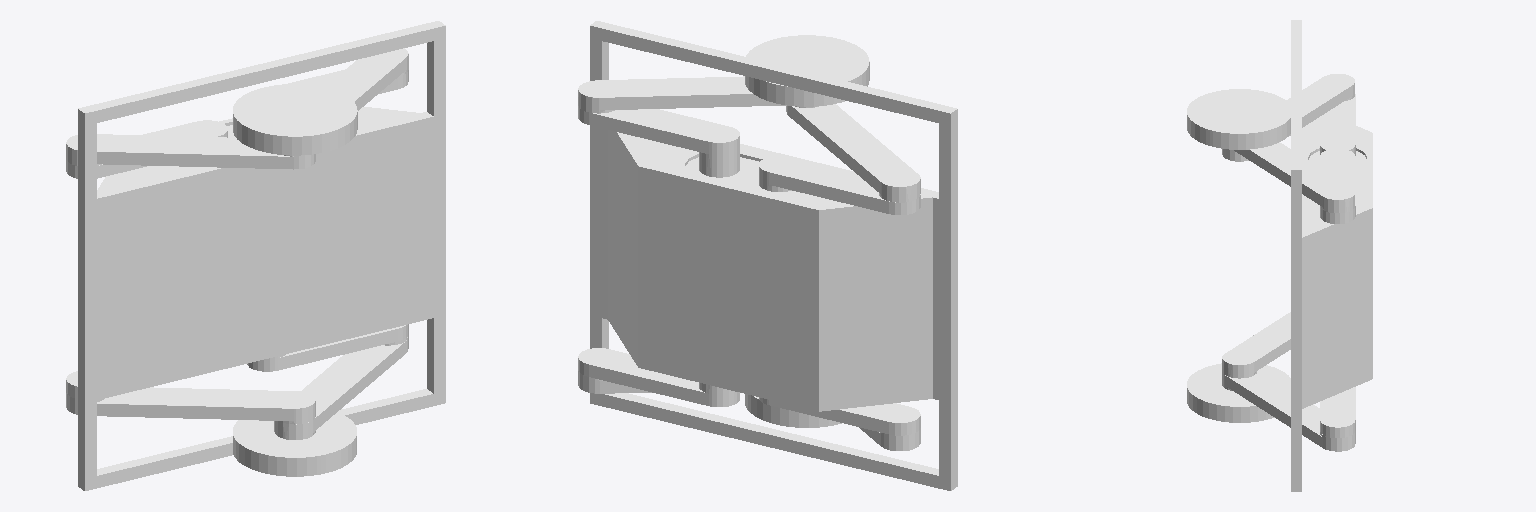
robot.urdf — TOE_balence:
<?xml version="1.0" encoding="utf-8"?>
<!-- This URDF was automatically created by SolidWorks to URDF Exporter! Originally created by [author] ([email redacted]) 
     Commit Version: 1.6.0-4-g7f85cfe  Build Version: 1.6.7995.38578
     For more information, please see http://wiki.ros.org/sw_urdf_exporter -->
<robot
  name="TOE_balence">
  <link
    name="base_link">
    <inertial>
      <origin
        xyz="3.46944695195361E-17 0.0600600740935481 2.22044604925031E-16"
        rpy="0 0 0" />
      <mass
        value="20.4614601836601" />
      <inertia
        ixx="0.249216414234592"
        ixy="-1.60131885338263E-17"
        ixz="2.12952553269204E-17"
        iyy="0.6175648877969"
        iyz="-4.26598358468633E-17"
        izz="0.435038252585552" />
    </inertial>
    <visual>
      <origin
        xyz="0 0 0"
        rpy="0 0 0" />
      <geometry>
        <mesh
          filename="package://TOE_balence/meshes/base_link.STL" />
      </geometry>
      <material
        name="">
        <color
          rgba="1 1 1 1" />
      </material>
    </visual>
    <collision>
      <origin
        xyz="0 0 0"
        rpy="0 0 0" />
      <geometry>
        <mesh
          filename="package://TOE_balence/meshes/base_link.STL" />
      </geometry>
    </collision>
  </link>
  <link
    name="LB_1">
    <inertial>
      <origin
        xyz="-0.0912954643793855 -4.30211422042248E-16 0.0113056803430923"
        rpy="0 0 0" />
      <mass
        value="0.324823001646924" />
      <inertia
        ixx="0.000107013716905788"
        ixy="1.28950027117944E-19"
        ixz="-3.87197766270466E-05"
        iyy="0.00180263223873226"
        iyz="4.37275444553061E-20"
        izz="0.00187778887256759" />
    </inertial>
    <visual>
      <origin
        xyz="0 0 0"
        rpy="0 0 0" />
      <geometry>
        <mesh
          filename="package://TOE_balence/meshes/LB_1.STL" />
      </geometry>
      <material
        name="">
        <color
          rgba="1 1 1 1" />
      </material>
    </visual>
    <collision>
      <origin
        xyz="0 0 0"
        rpy="0 0 0" />
      <geometry>
        <mesh
          filename="package://TOE_balence/meshes/LB_1.STL" />
      </geometry>
    </collision>
  </link>
  <joint
    name="LB_1"
    type="revolute">
    <origin
      xyz="-0.05 0.08 -0.185"
      rpy="0 0 0" />
    <parent
      link="base_link" />
    <child
      link="LB_1" />
    <axis
      xyz="0 0 -1" />
    <limit
      lower="0"
      upper="1.0466"
      effort="0"
      velocity="0" />
  </joint>
  <link
    name="LB_2">
    <inertial>
      <origin
        xyz="0.15 -1.38777878078145E-17 0.01"
        rpy="0 0 0" />
      <mass
        value="0.444823001646924" />
      <inertia
        ixx="0.000145446900494077"
        ixy="-5.73338937578026E-20"
        ixz="5.30143760293281E-05"
        iyy="0.00486196443754987"
        iyz="-7.73733477640343E-20"
        izz="0.00497068788779691" />
    </inertial>
    <visual>
      <origin
        xyz="0 0 0"
        rpy="0 0 0" />
      <geometry>
        <mesh
          filename="package://TOE_balence/meshes/LB_2.STL" />
      </geometry>
      <material
        name="">
        <color
          rgba="1 1 1 1" />
      </material>
    </visual>
    <collision>
      <origin
        xyz="0 0 0"
        rpy="0 0 0" />
      <geometry>
        <mesh
          filename="package://TOE_balence/meshes/LB_2.STL" />
      </geometry>
    </collision>
  </link>
  <joint
    name="LB_2"
    type="revolute">
    <origin
      xyz="-0.200000000000001 0 -0.0250000000000002"
      rpy="0 0 -0.585685543457151" />
    <parent
      link="LB_1" />
    <child
      link="LB_2" />
    <axis
      xyz="0 0 -1" />
    <limit
      lower="0"
      upper="0"
      effort="0"
      velocity="0" />
  </joint>
  <link
    name="LF_1">
    <inertial>
      <origin
        xyz="0.0749790246153097 5.96744875736022E-16 0.0168807682307895"
        rpy="0 0 0" />
      <mass
        value="0.395508836352695" />
      <inertia
        ixx="0.000183089900579248"
        ixy="1.22584331602294E-19"
        ixz="0.000204048265203773"
        iyy="0.0023625702698755"
        iyz="-1.52298451305155E-20"
        izz="0.00239345934565496" />
    </inertial>
    <visual>
      <origin
        xyz="0 0 0"
        rpy="0 0 0" />
      <geometry>
        <mesh
          filename="package://TOE_balence/meshes/LF_1.STL" />
      </geometry>
      <material
        name="">
        <color
          rgba="1 1 1 1" />
      </material>
    </visual>
    <collision>
      <origin
        xyz="0 0 0"
        rpy="0 0 0" />
      <geometry>
        <mesh
          filename="package://TOE_balence/meshes/LF_1.STL" />
      </geometry>
    </collision>
  </link>
  <joint
    name="LF_1"
    type="revolute">
    <origin
      xyz="0.05 0.08 -0.21"
      rpy="0 0 0" />
    <parent
      link="base_link" />
    <child
      link="LF_1" />
    <axis
      xyz="0 0 -1" />
    <limit
      lower="0"
      upper="-1.0466"
      effort="0"
      velocity="0" />
  </joint>
  <link
    name="LF_2">
    <inertial>
      <origin
        xyz="-0.15 -1.38777878078145E-17 0.00999999999999995"
        rpy="0 0 0" />
      <mass
        value="0.444823001646924" />
      <inertia
        ixx="0.000145446900494078"
        ixy="-1.41843389906989E-19"
        ixz="-5.30143760293279E-05"
        iyy="0.00486196443754988"
        iyz="-9.51376352720901E-20"
        izz="0.00497068788779692" />
    </inertial>
    <visual>
      <origin
        xyz="0 0 0"
        rpy="0 0 0" />
      <geometry>
        <mesh
          filename="package://TOE_balence/meshes/LF_2.STL" />
      </geometry>
      <material
        name="">
        <color
          rgba="1 1 1 1" />
      </material>
    </visual>
    <collision>
      <origin
        xyz="0 0 0"
        rpy="0 0 0" />
      <geometry>
        <mesh
          filename="package://TOE_balence/meshes/LF_2.STL" />
      </geometry>
    </collision>
  </link>
  <joint
    name="LF_2"
    type="revolute">
    <origin
      xyz="0.199999999999999 0 -0.0250000000000001"
      rpy="0 0 0.58568554345715" />
    <parent
      link="LF_1" />
    <child
      link="LF_2" />
    <axis
      xyz="0 0 -1" />
    <limit
      lower="0"
      upper="0"
      effort="0"
      velocity="0" />
  </joint>
  <link
    name="L">
    <inertial>
      <origin
        xyz="0 0 0.015"
        rpy="0 0 0" />
      <mass
        value="0.763407014822321" />
      <inertia
        ixx="0.00160315473112687"
        ixy="-1.43995601033231E-20"
        ixz="-7.10198537447759E-25"
        iyy="0.00160315473112687"
        iyz="2.95431016670969E-24"
        izz="0.0030917984100304" />
    </inertial>
    <visual>
      <origin
        xyz="0 0 0"
        rpy="0 0 0" />
      <geometry>
        <mesh
          filename="package://TOE_balence/meshes/L.STL" />
      </geometry>
      <material
        name="">
        <color
          rgba="1 1 1 1" />
      </material>
    </visual>
    <collision>
      <origin
        xyz="0 0 0"
        rpy="0 0 0" />
      <geometry>
        <mesh
          filename="package://TOE_balence/meshes/L.STL" />
      </geometry>
    </collision>
  </link>
  <joint
    name="L"
    type="revolute">
    <origin
      xyz="-0.3 0 -0.0350000000000001"
      rpy="0 0 -0.58568554345715" />
    <parent
      link="LF_2" />
    <child
      link="L" />
    <axis
      xyz="0 0 1" />
    <limit
      lower="0"
      upper="0"
      effort="0"
      velocity="0" />
  </joint>
  <link
    name="RF_1">
    <inertial>
      <origin
        xyz="0.0749790246153108 -5.55111512312578E-17 -0.0168807682307895"
        rpy="0 0 0" />
      <mass
        value="0.395508836352695" />
      <inertia
        ixx="0.000183089900579248"
        ixy="1.76472263066726E-19"
        ixz="-0.000204048265203774"
        iyy="0.0023625702698755"
        iyz="9.34217943423371E-21"
        izz="0.00239345934565496" />
    </inertial>
    <visual>
      <origin
        xyz="0 0 0"
        rpy="0 0 0" />
      <geometry>
        <mesh
          filename="package://TOE_balence/meshes/RF_1.STL" />
      </geometry>
      <material
        name="">
        <color
          rgba="1 1 1 1" />
      </material>
    </visual>
    <collision>
      <origin
        xyz="0 0 0"
        rpy="0 0 0" />
      <geometry>
        <mesh
          filename="package://TOE_balence/meshes/RF_1.STL" />
      </geometry>
    </collision>
  </link>
  <joint
    name="RF_1"
    type="revolute">
    <origin
      xyz="0.05 0.08 0.21"
      rpy="0 0 0" />
    <parent
      link="base_link" />
    <child
      link="RF_1" />
    <axis
      xyz="0 0 1" />
    <limit
      lower="0"
      upper="-1.0466"
      effort="0"
      velocity="0" />
  </joint>
  <link
    name="RF_2">
    <inertial>
      <origin
        xyz="-0.15 2.08166817117217E-17 -0.01"
        rpy="0 0 0" />
      <mass
        value="0.444823001646925" />
      <inertia
        ixx="0.000145446900494078"
        ixy="3.59141969635823E-19"
        ixz="5.30143760293279E-05"
        iyy="0.00486196443754988"
        iyz="-1.6940658945086E-20"
        izz="0.00497068788779692" />
    </inertial>
    <visual>
      <origin
        xyz="0 0 0"
        rpy="0 0 0" />
      <geometry>
        <mesh
          filename="package://TOE_balence/meshes/RF_2.STL" />
      </geometry>
      <material
        name="">
        <color
          rgba="1 1 1 1" />
      </material>
    </visual>
    <collision>
      <origin
        xyz="0 0 0"
        rpy="0 0 0" />
      <geometry>
        <mesh
          filename="package://TOE_balence/meshes/RF_2.STL" />
      </geometry>
    </collision>
  </link>
  <joint
    name="RF_2"
    type="revolute">
    <origin
      xyz="0.2 0 0.025"
      rpy="0 0 0.58568554345715" />
    <parent
      link="RF_1" />
    <child
      link="RF_2" />
    <axis
      xyz="0 0 -1" />
    <limit
      lower="0"
      upper="0"
      effort="0"
      velocity="0" />
  </joint>
  <link
    name="R">
    <inertial>
      <origin
        xyz="0 -1.38777878078145E-17 -0.0149999999999999"
        rpy="0 0 0" />
      <mass
        value="0.763407014822321" />
      <inertia
        ixx="0.00160315473112687"
        ixy="-1.86347248395946E-19"
        ixz="-1.93699604447497E-24"
        iyy="0.00160315473112687"
        iyz="2.42191734012313E-24"
        izz="0.0030917984100304" />
    </inertial>
    <visual>
      <origin
        xyz="0 0 0"
        rpy="0 0 0" />
      <geometry>
        <mesh
          filename="package://TOE_balence/meshes/R.STL" />
      </geometry>
      <material
        name="">
        <color
          rgba="1 1 1 1" />
      </material>
    </visual>
    <collision>
      <origin
        xyz="0 0 0"
        rpy="0 0 0" />
      <geometry>
        <mesh
          filename="package://TOE_balence/meshes/R.STL" />
      </geometry>
    </collision>
  </link>
  <joint
    name="R"
    type="revolute">
    <origin
      xyz="-0.3 0 0.035"
      rpy="0 0 -0.58568554345715" />
    <parent
      link="RF_2" />
    <child
      link="R" />
    <axis
      xyz="0 0 1" />
    <limit
      lower="0"
      upper="0"
      effort="0"
      velocity="0" />
  </joint>
  <link
    name="RB_1">
    <inertial>
      <origin
        xyz="-0.0912954643793854 -3.88578058618805E-16 -0.0113056803430923"
        rpy="0 0 0" />
      <mass
        value="0.324823001646925" />
      <inertia
        ixx="0.000107013716905788"
        ixy="1.14549074300871E-20"
        ixz="3.87197766270465E-05"
        iyy="0.00180263223873226"
        iyz="5.60254202873649E-22"
        izz="0.00187778887256759" />
    </inertial>
    <visual>
      <origin
        xyz="0 0 0"
        rpy="0 0 0" />
      <geometry>
        <mesh
          filename="package://TOE_balence/meshes/RB_1.STL" />
      </geometry>
      <material
        name="">
        <color
          rgba="1 1 1 1" />
      </material>
    </visual>
    <collision>
      <origin
        xyz="0 0 0"
        rpy="0 0 0" />
      <geometry>
        <mesh
          filename="package://TOE_balence/meshes/RB_1.STL" />
      </geometry>
    </collision>
  </link>
  <joint
    name="RB_1"
    type="revolute">
    <origin
      xyz="-0.05 0.08 0.185"
      rpy="0 0 0" />
    <parent
      link="base_link" />
    <child
      link="RB_1" />
    <axis
      xyz="0 0 1" />
    <limit
      lower="0"
      upper="1.0466"
      effort="0"
      velocity="0" />
  </joint>
  <link
    name="RB_2">
    <inertial>
      <origin
        xyz="0.15 0 -0.01"
        rpy="0 0 0" />
      <mass
        value="0.444823001646925" />
      <inertia
        ixx="0.000145446900494078"
        ixy="3.32036915323686E-19"
        ixz="-5.30143760293279E-05"
        iyy="0.00486196443754988"
        iyz="1.6940658945086E-20"
        izz="0.00497068788779692" />
    </inertial>
    <visual>
      <origin
        xyz="0 0 0"
        rpy="0 0 0" />
      <geometry>
        <mesh
          filename="package://TOE_balence/meshes/RB_2.STL" />
      </geometry>
      <material
        name="">
        <color
          rgba="1 1 1 1" />
      </material>
    </visual>
    <collision>
      <origin
        xyz="0 0 0"
        rpy="0 0 0" />
      <geometry>
        <mesh
          filename="package://TOE_balence/meshes/RB_2.STL" />
      </geometry>
    </collision>
  </link>
  <joint
    name="RB_2"
    type="revolute">
    <origin
      xyz="-0.2 0 0.025"
      rpy="0 0 -0.585685543457153" />
    <parent
      link="RB_1" />
    <child
      link="RB_2" />
    <axis
      xyz="0 0 -1" />
    <limit
      lower="0"
      upper="0"
      effort="0"
      velocity="0" />
  </joint>
</robot>

--- Render facts (derived) ---
The picture shows the robot from 3 angles, left to right: view 1: azimuth 30°, elevation 25°; view 2: azimuth 150°, elevation 25°; view 3: azimuth 270°, elevation 25°; orthographic projection.
Model TOE_balence with 11 links and 10 joints (10 revolute), rooted at base_link, posed every joint at zero.
Links seen in each view (by area): view 1: base_link, R, LB_2, RB_2, L, LF_2, RF_2, LF_1, RB_1, RF_1; view 2: base_link, RB_2, RF_2, R, RF_1, RB_1, LF_1, LB_1, L, LB_2, LF_2; view 3: base_link, R, L, RF_2, LF_2, LB_2, RB_2, RB_1, LF_1, RF_1.
Boxes of the visible links, box(x1,y1,x2,y2) form: base_link: box(78, 21, 445, 490); R: box(233, 84, 357, 155); LB_2: box(66, 387, 315, 424); RB_2: box(66, 134, 315, 169); L: box(233, 412, 356, 476); LF_2: box(274, 334, 408, 439); RF_2: box(326, 48, 408, 110); LF_1: box(247, 324, 408, 371); RB_1: box(66, 120, 227, 178); RF_1: box(288, 69, 408, 93); base_link: box(590, 21, 957, 490); RB_2: box(786, 104, 920, 202); RF_2: box(578, 76, 786, 113); R: box(745, 35, 869, 106); RF_1: box(578, 106, 739, 177); RB_1: box(759, 156, 920, 214); LF_1: box(578, 348, 739, 406); LB_1: box(759, 397, 920, 435); L: box(745, 394, 841, 427); LB_2: box(859, 427, 920, 450); LF_2: box(578, 371, 651, 393); base_link: box(1291, 20, 1372, 491); R: box(1187, 89, 1290, 149); L: box(1187, 363, 1290, 422); RF_2: box(1234, 142, 1354, 212); LF_2: box(1222, 370, 1355, 451); LB_2: box(1222, 312, 1290, 378); RB_2: box(1222, 74, 1354, 161); RB_1: box(1320, 94, 1355, 155); LF_1: box(1320, 387, 1355, 437); RF_1: box(1320, 149, 1355, 223).
Size in the robot's own frame: 0.6 by 0.3158 by 0.6 metres.
Meshes: 11 distinct files referenced, 11 mesh visuals loaded (11 binary STL).